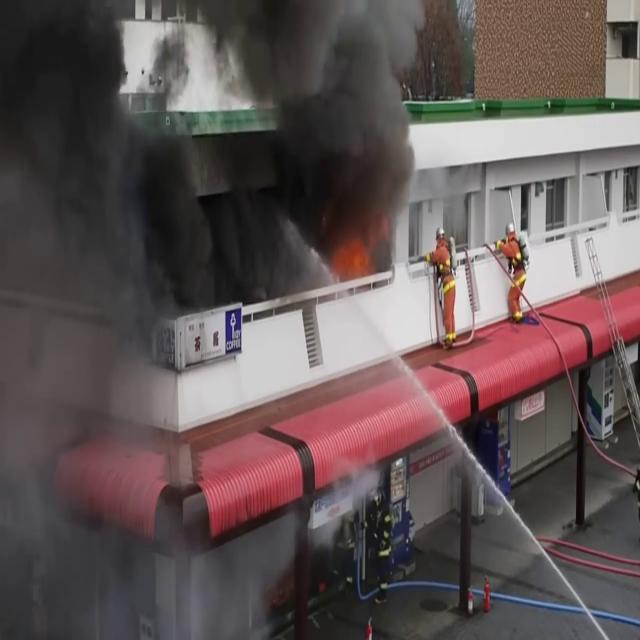Smoke: (1, 0, 427, 328)
